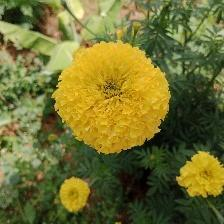marigold: (54, 42, 172, 157)
